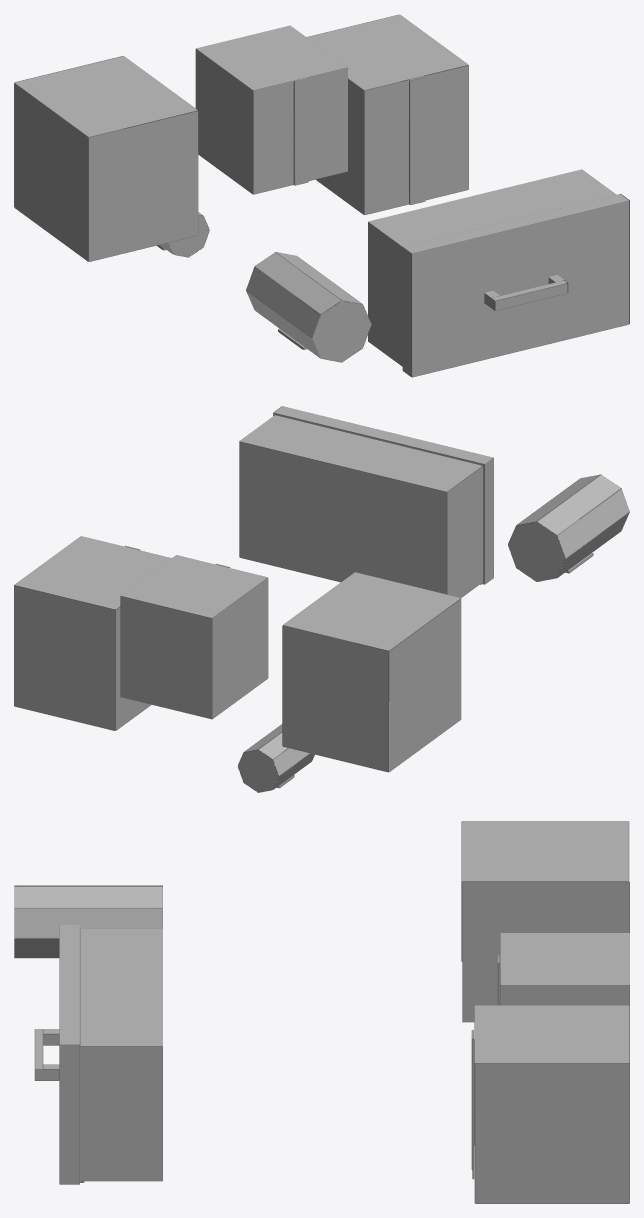
The model's file is contents_books_misc_01_51.obj.
3 renders of one model, top to bottom at view 1: azimuth 30°, elevation 25°; view 2: azimuth 150°, elevation 25°; view 3: azimuth 270°, elevation 25°, orthographic. The views are drawn at different scales.
Visible parts, largest first — view 1: contents_books_misc_01_51; view 2: contents_books_misc_01_51; view 3: contents_books_misc_01_51.
Boxes of the visible parts, x1,y1,x2,y2 form: contents_books_misc_01_51: [14, 14, 629, 377]; contents_books_misc_01_51: [14, 406, 629, 792]; contents_books_misc_01_51: [14, 821, 629, 1203].
Bounding box in the file's own units: 0.775 × 0.344 × 0.95.
Materials: 1 (1 with a texture image).
